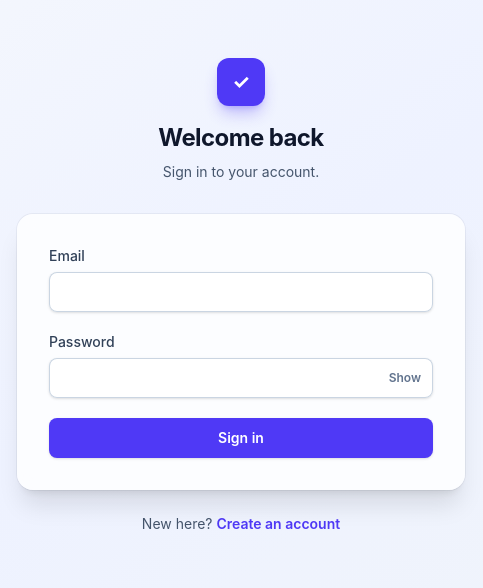
it: Sign in page › tells the user to wait when rate limited
Type "jane@example.com" into the field labelled "Email". click: (241, 292)
box: [49,272,433,312]
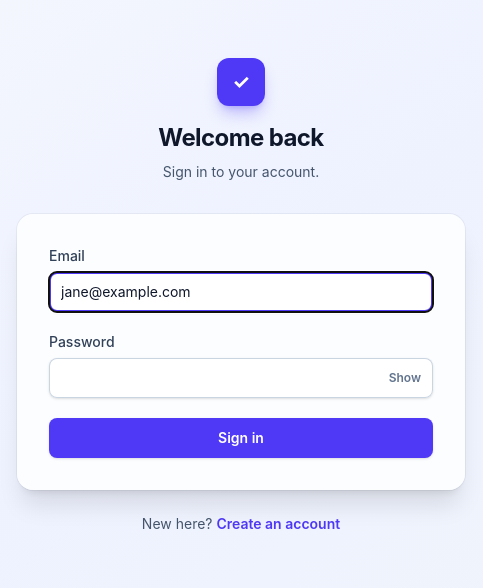
Type "whatever" into the password field labelled "Password". click: (241, 378)
box: [49,358,433,398]
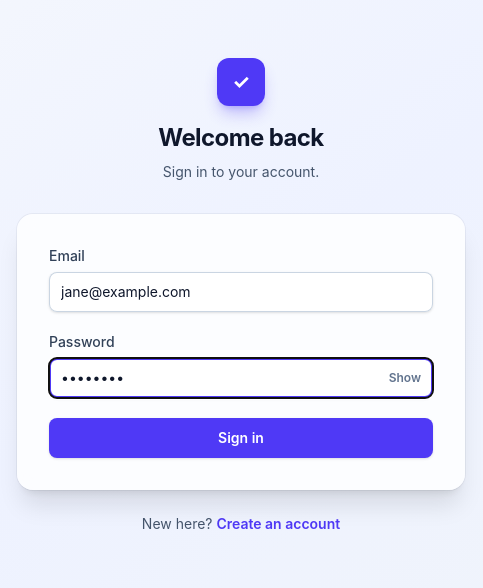
Click the button "Sign in". click: (241, 438)
box: [49,418,433,458]
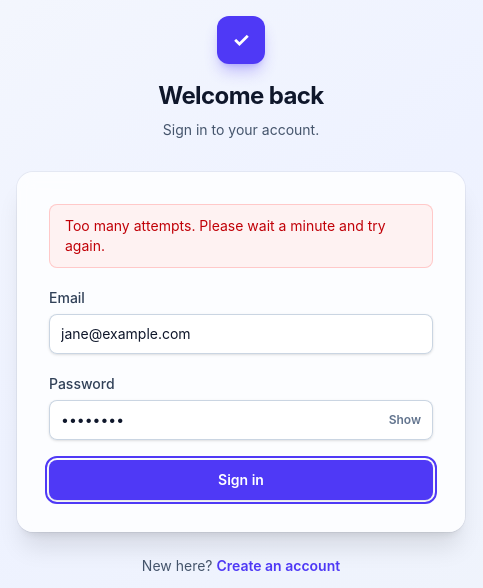
Expected: the message shows "Too many attempts", [65,217,386,254]
